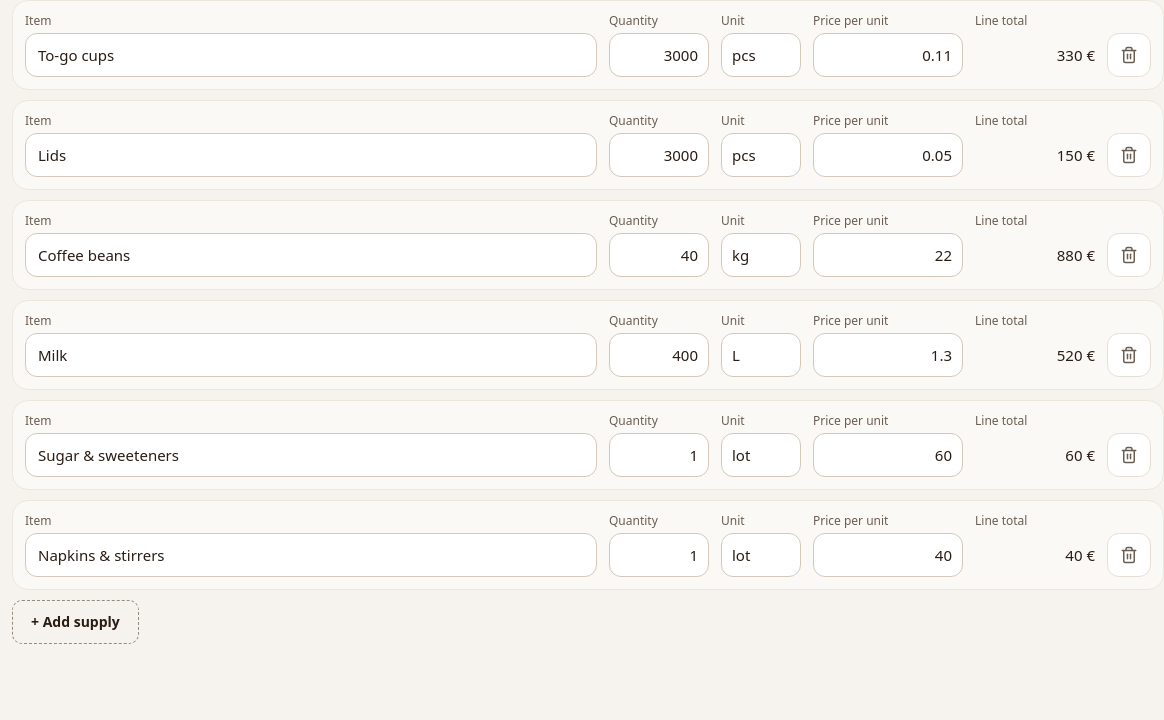
Scenario: SuppliesEditor › marks a price change once the owner leaves the field, not while typing
Expected: the text "%" is not shown
Replace the text in the field labelled "Price per unit" next to "880 €" with "24.2" at (888, 255), box x1=813 y1=233 x2=963 y2=277
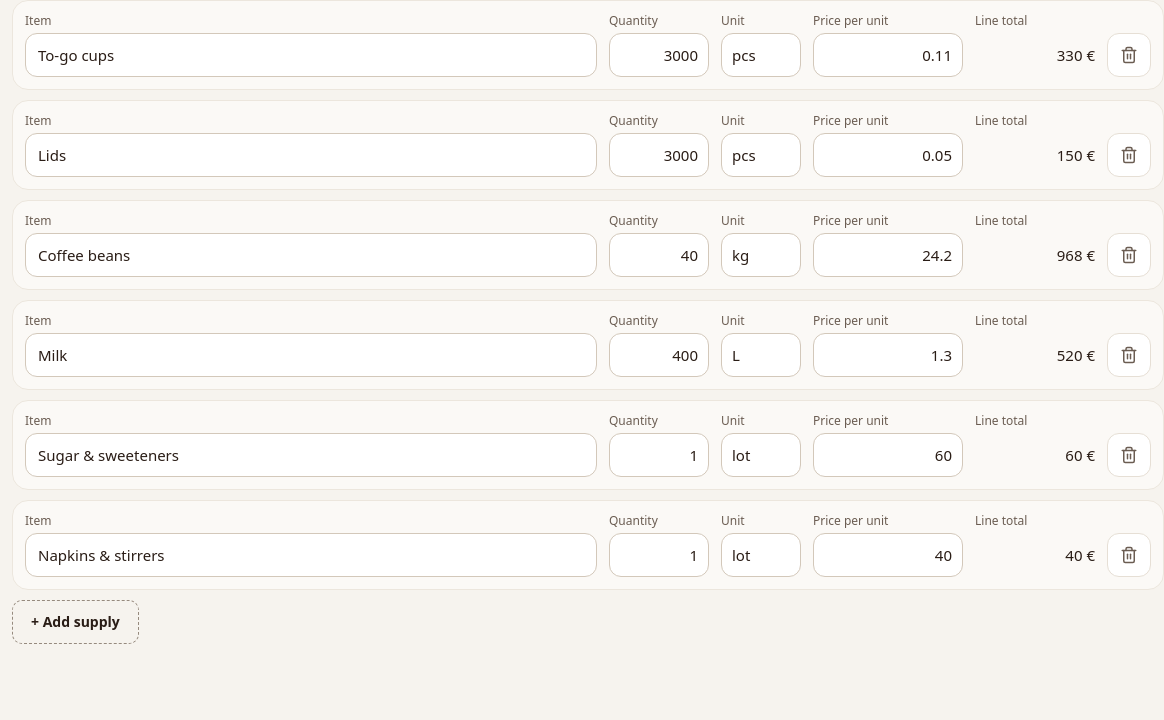
Expected: the text "%" is not shown
Press Tab
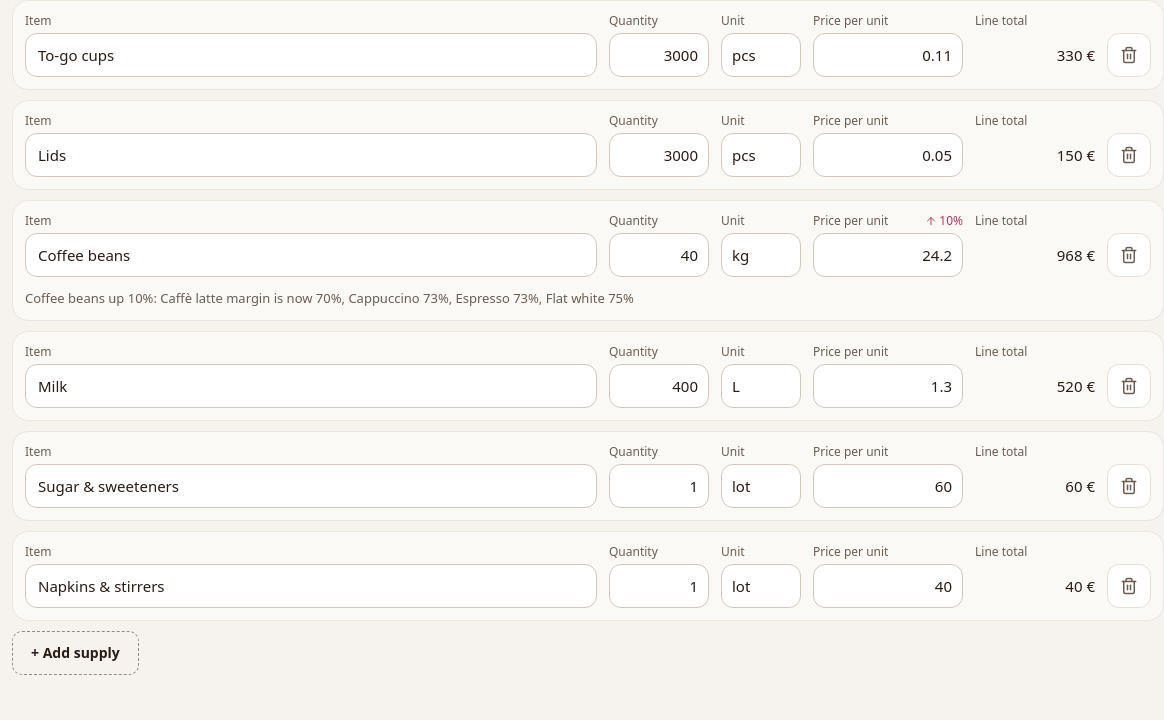
Expected: the text "10%" is shown, x1=925 y1=213 x2=963 y2=229
Expected: the icon named "Up" is shown, x1=925 y1=215 x2=937 y2=227
